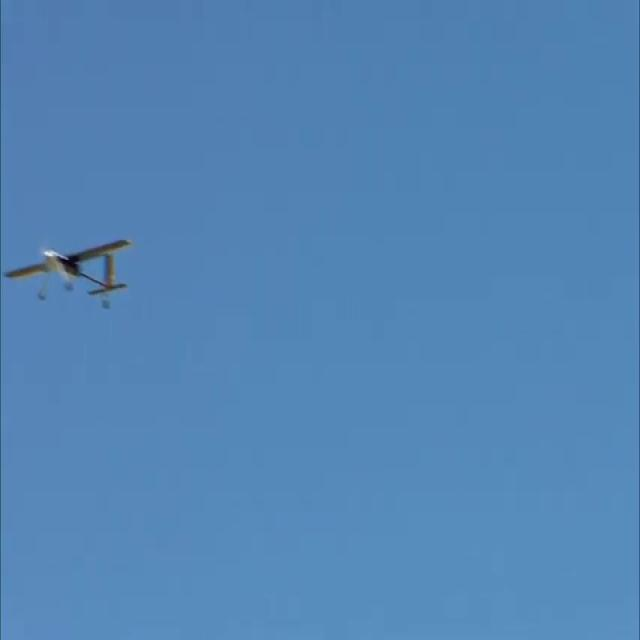iha: (0, 266, 67, 284)
